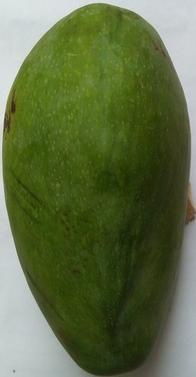Unripe: (0, 1, 196, 377)
